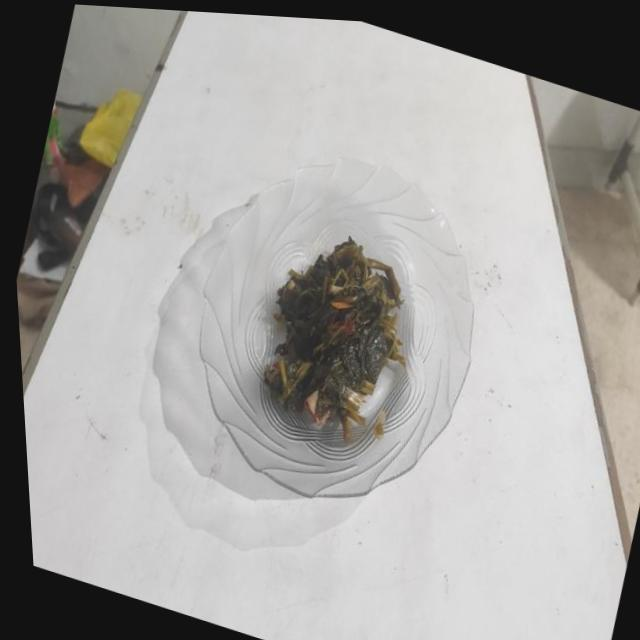tumis_kangkung: (264, 236, 405, 441)
